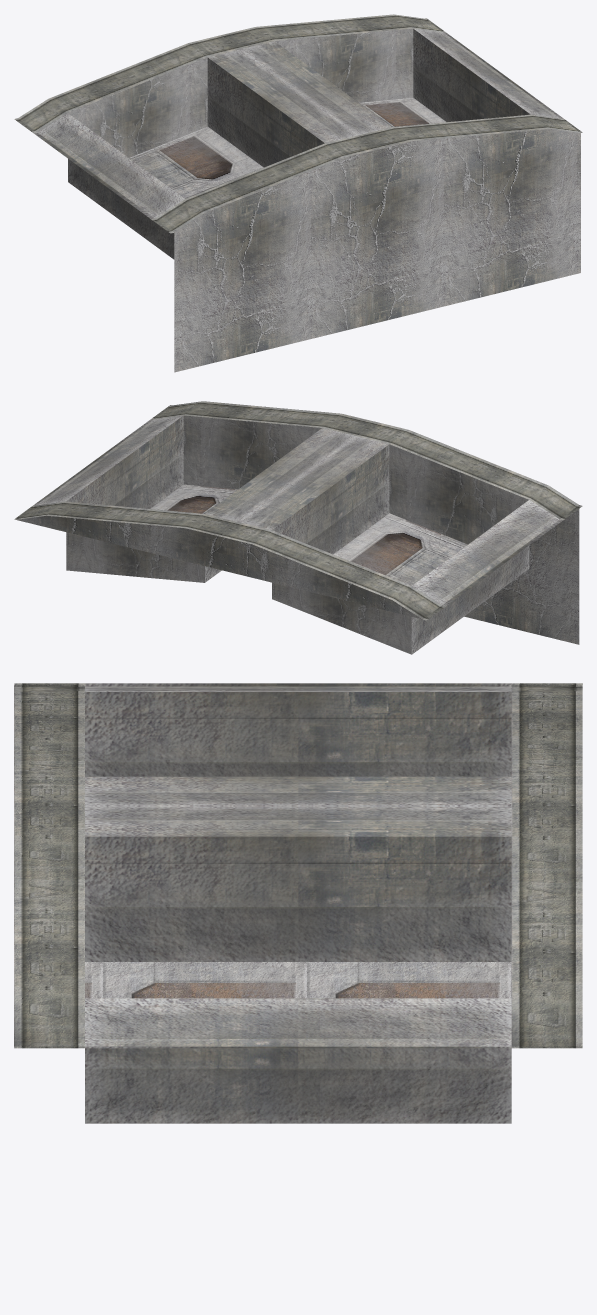
File: rv_mod_cit_grand_facade.obj
The picture shows the model from 3 angles, top to bottom: view 1: azimuth 30°, elevation 25°; view 2: azimuth 150°, elevation 25°; view 3: azimuth 270°, elevation 25°; orthographic projection. The views are drawn at different scales.
Visible parts, largest first — view 1: rv_mod_cit_grand_facade; view 2: rv_mod_cit_grand_facade; view 3: rv_mod_cit_grand_facade.
Part boxes in pixels (x1,y1,x2,y2): rv_mod_cit_grand_facade: (14, 14, 582, 372); rv_mod_cit_grand_facade: (14, 401, 582, 654); rv_mod_cit_grand_facade: (14, 683, 582, 1123).
Size of the model in its own units: 24.35 by 9.78 by 16.01.
Materials: 4 (4 with a texture image).
